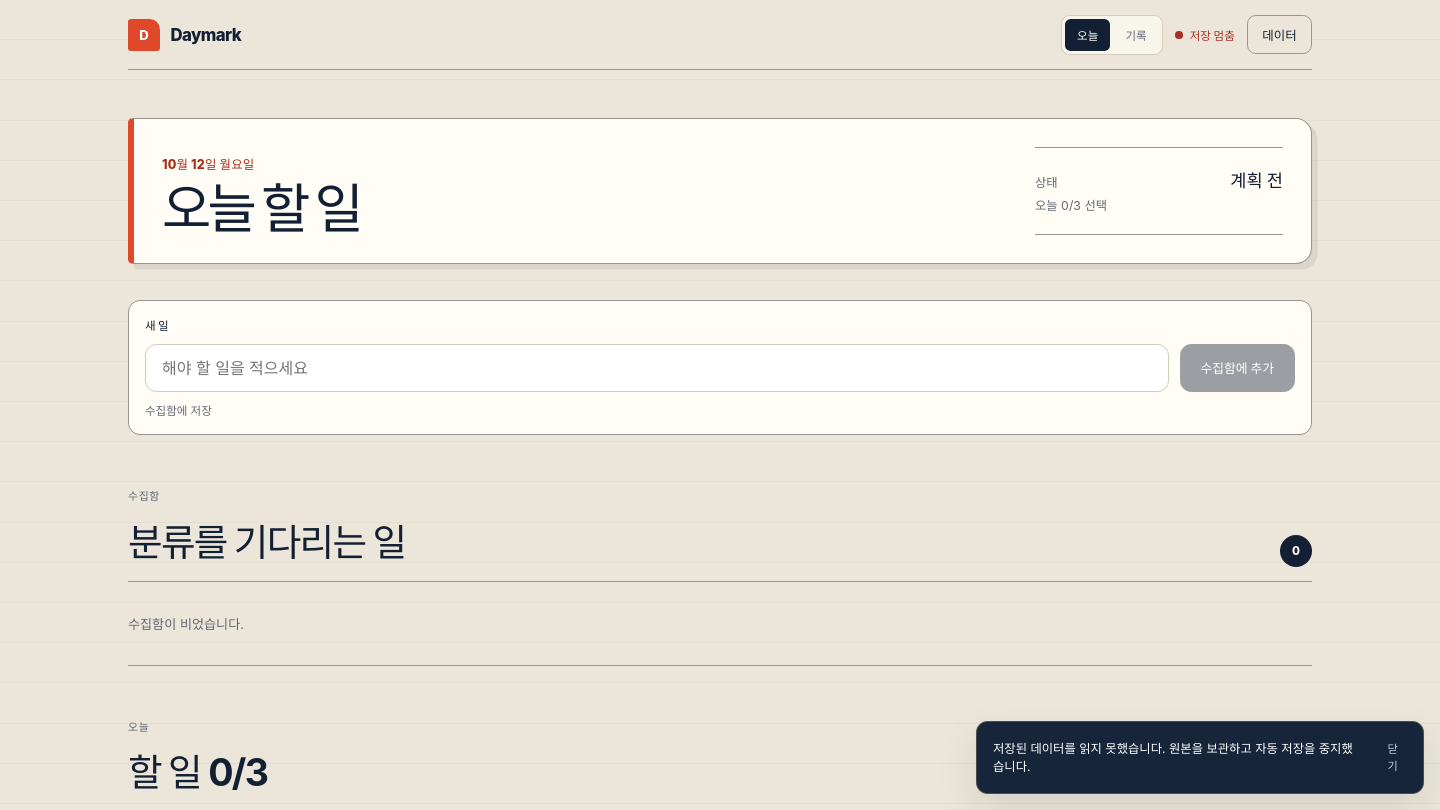
Test: Daymark 첫 사용 흐름 › 저장이 잠긴 임시 상태에서는 사라질 변경을 만들지 않는다
Type "저장되지 않을 일" into the field labelled "새 일" at (657, 368), box [145,344,1169,392]
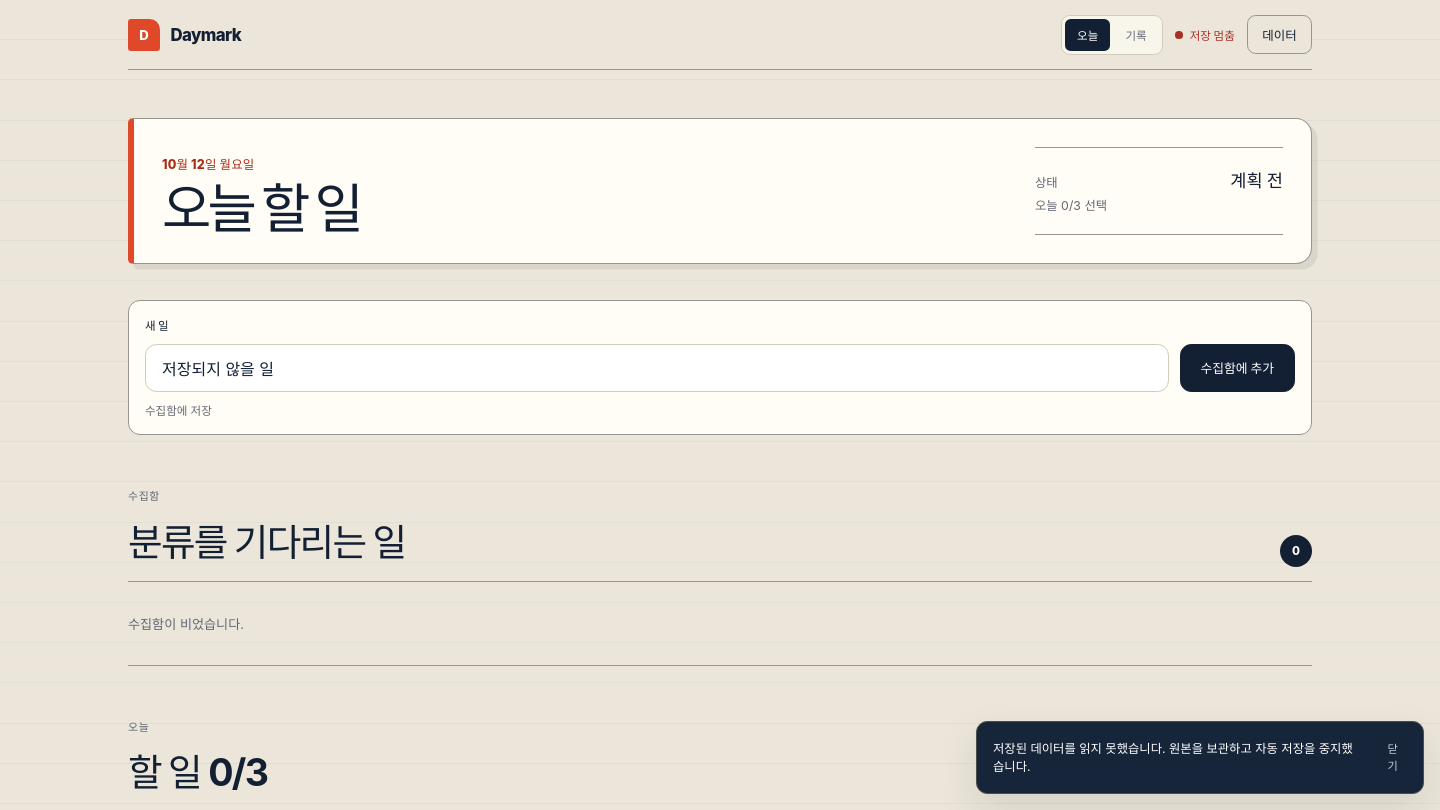
Click the button "수집함에 추가" at (1237, 368), box [1180,344,1295,392]
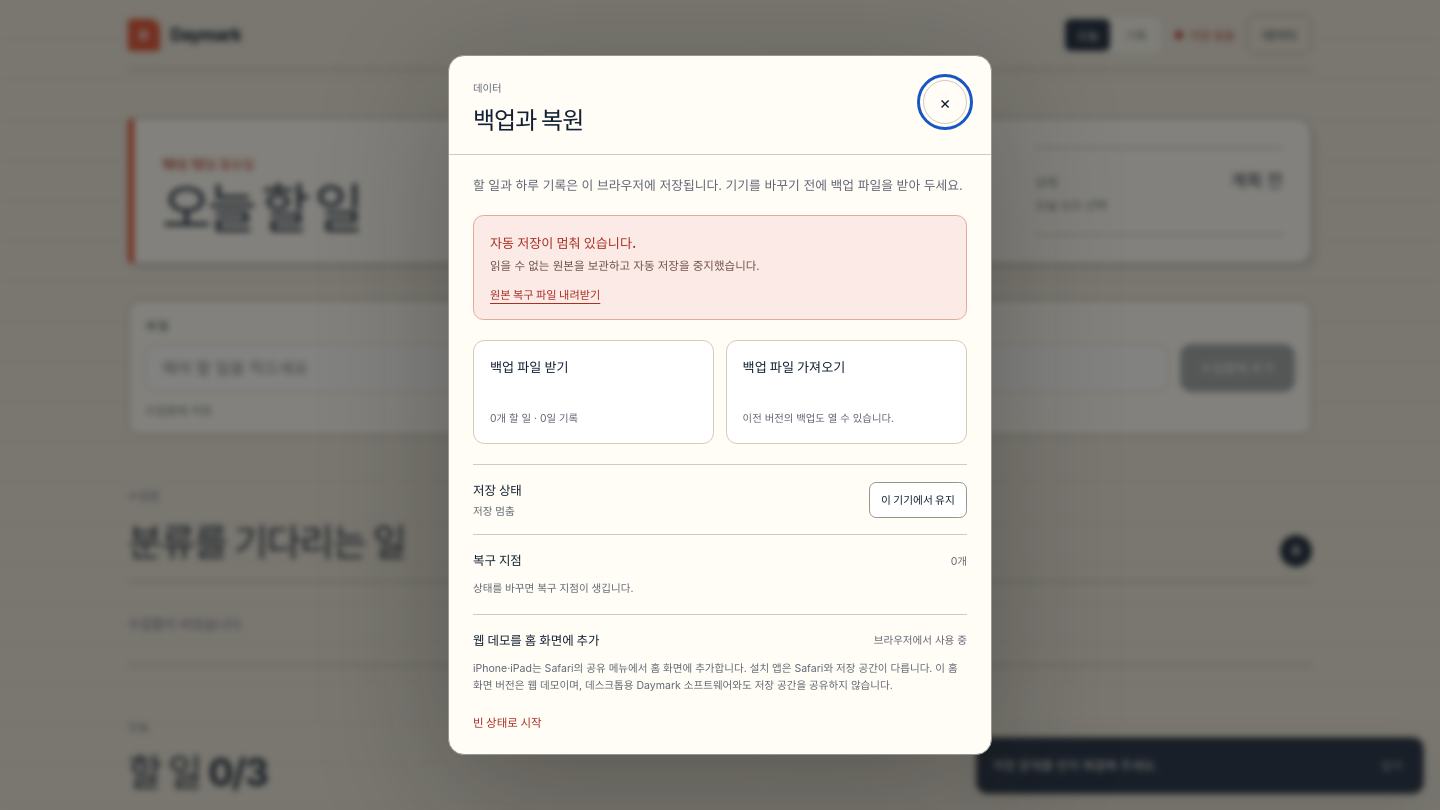
Expected: the heading "저장되지 않을 일" is not shown
Result: the text "저장 문제를 먼저 해결해 주세요." is shown at [993,757,1158,775]
